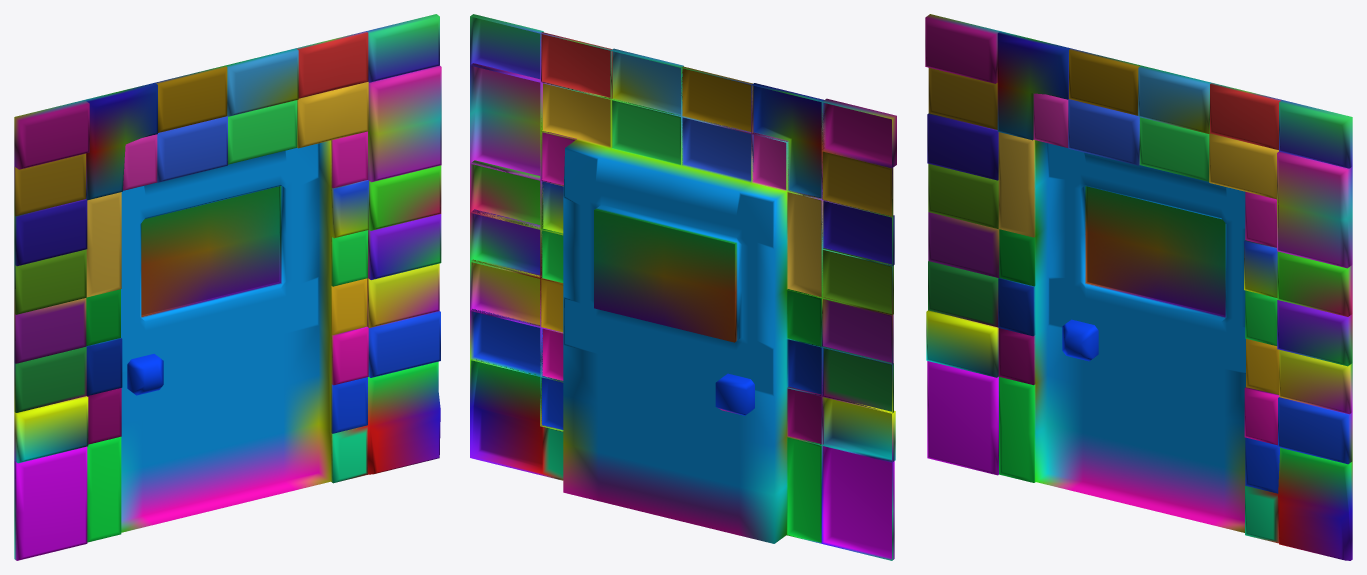
File: WallandDoor_UNwrapped.fbx
3 renders of one model, left to right at view 1: azimuth 30°, elevation 25°; view 2: azimuth 150°, elevation 25°; view 3: azimuth 330°, elevation 25°, orthographic.
Parts seen in each view (by area): view 1: WallandDoor_UNwrapped; view 2: WallandDoor_UNwrapped; view 3: WallandDoor_UNwrapped.
Boxes of the visible parts, x1=… form: WallandDoor_UNwrapped: x1=14, y1=14, x2=441, y2=560; WallandDoor_UNwrapped: x1=470, y1=14, x2=896, y2=560; WallandDoor_UNwrapped: x1=925, y1=14, x2=1352, y2=560.
Bounding box in the file's own units: 2.86 × 2.86 × 0.3325.
Materials: 1 (1 with a texture image).
